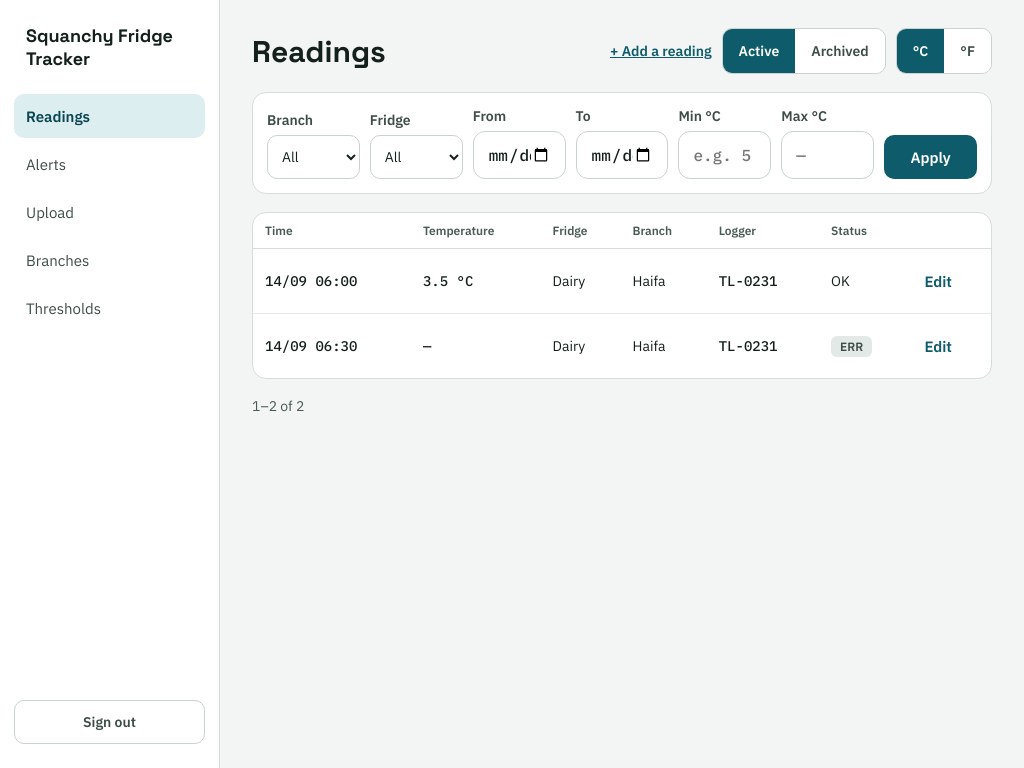
Scenario: ReadingsPage list › converts the shown temperatures when the user picks °F (Haifa logs in °F)
Click the button "°F".
click(968, 51)  # box top-left (944, 29), bottom-right (991, 73)
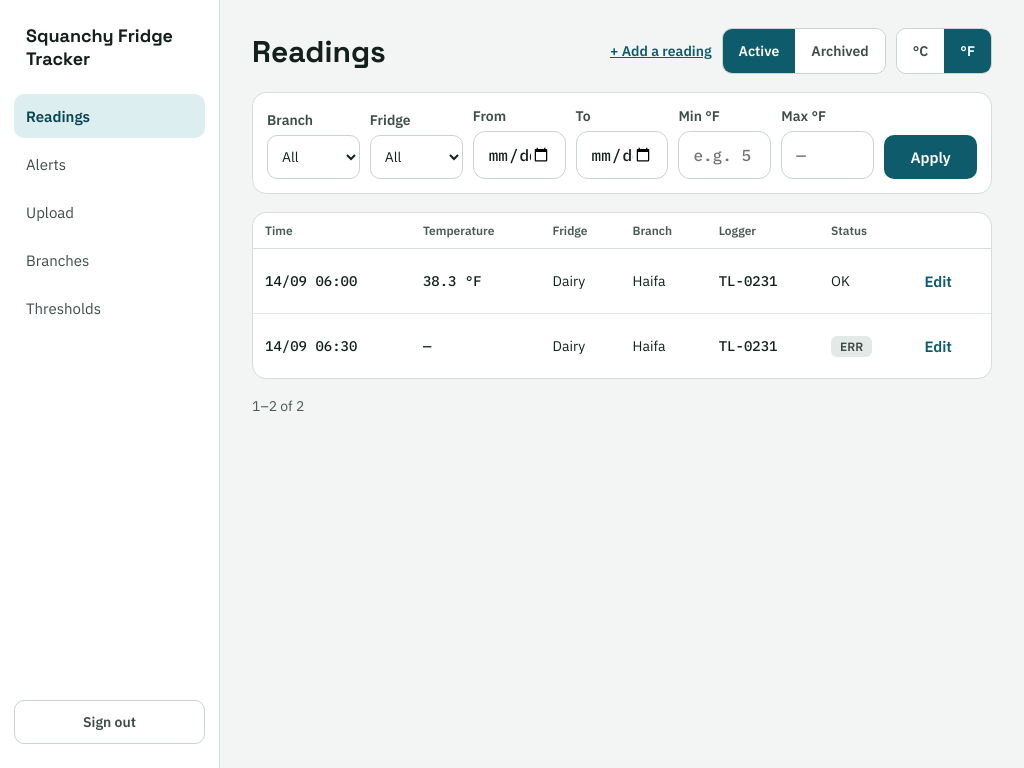
Expected: the text "38.3 °F" is shown, top-left (411, 248), bottom-right (540, 314)
